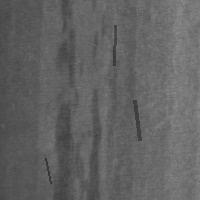inclusion: (53, 1, 99, 199), (55, 1, 84, 103), (132, 98, 141, 142), (43, 156, 52, 185), (112, 23, 117, 67)
